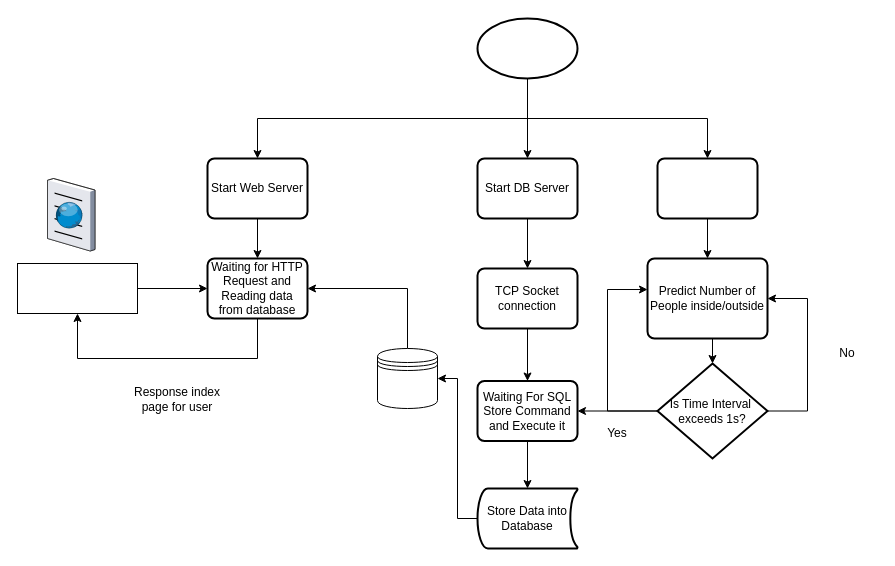
Some shapes in this 895 by 566 pixel diagram are drawn without their labels. Here are the shapes that lost their labels. From the top down, the centre of each, then its label:
At pixel 527 48: "Start".
At pixel 707 188: "Start Elevator Prediction".
At pixel 77 288: "External Users Access gateway with HTTP request".
At pixel 407 378: "MariaDB".
